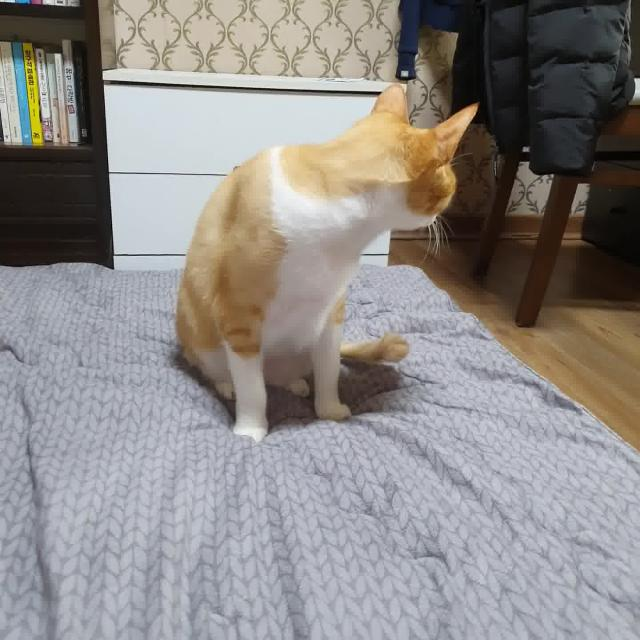cat: (169, 79, 484, 442)
